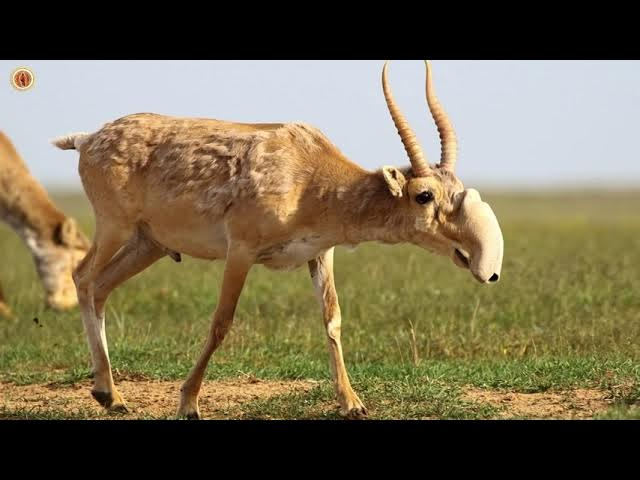saiga: (67, 60, 515, 406)
